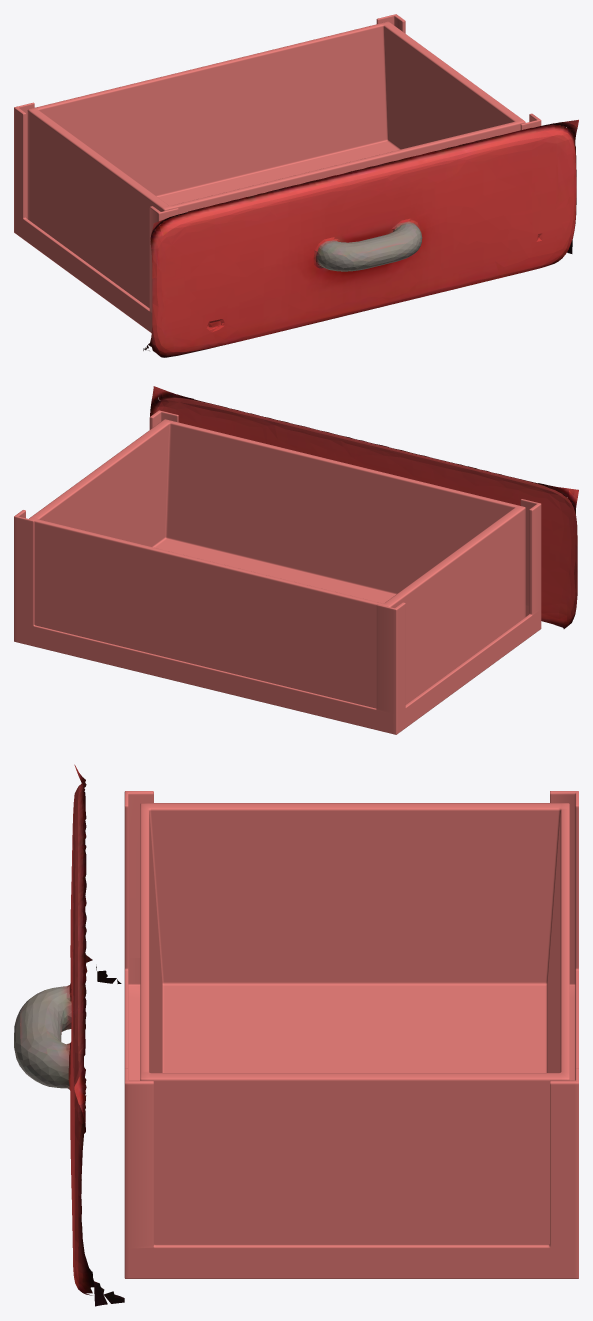
The model's file is drawer_top.glb.
3 renders of one model, top to bottom at view 1: azimuth 30°, elevation 25°; view 2: azimuth 150°, elevation 25°; view 3: azimuth 270°, elevation 25°, orthographic. The views are drawn at different scales.
Parts seen in each view (by area): view 1: prefab_drawer_body_1, source_front_cap_0; view 2: prefab_drawer_body_1, source_front_cap_0; view 3: prefab_drawer_body_1, source_front_cap_0.
Part boxes in pixels (bbox=[...]): prefab_drawer_body_1: bbox=[14, 14, 541, 332]; source_front_cap_0: bbox=[143, 119, 578, 357]; prefab_drawer_body_1: bbox=[14, 410, 541, 734]; source_front_cap_0: bbox=[150, 386, 578, 628]; prefab_drawer_body_1: bbox=[124, 791, 578, 1278]; source_front_cap_0: bbox=[14, 764, 124, 1306].
Bounding box in the file's own units: 0.5235 × 0.1641 × 0.3848.
Materials: 2 (1 with a texture image).
